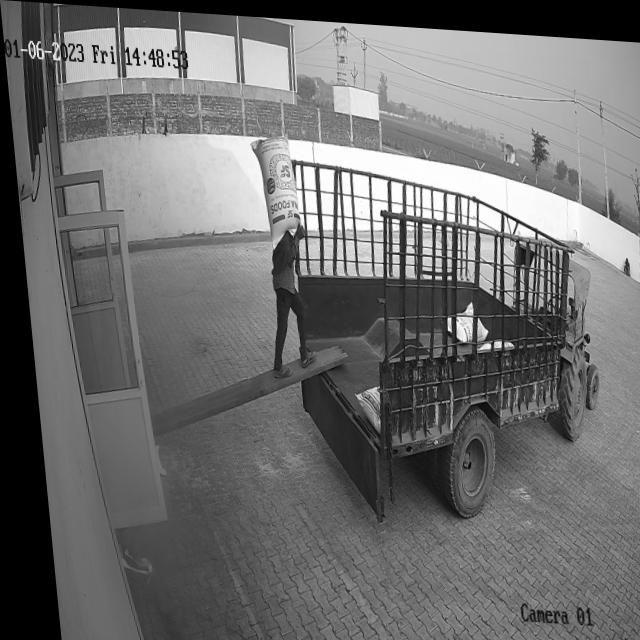sack: (247, 129, 298, 246)
